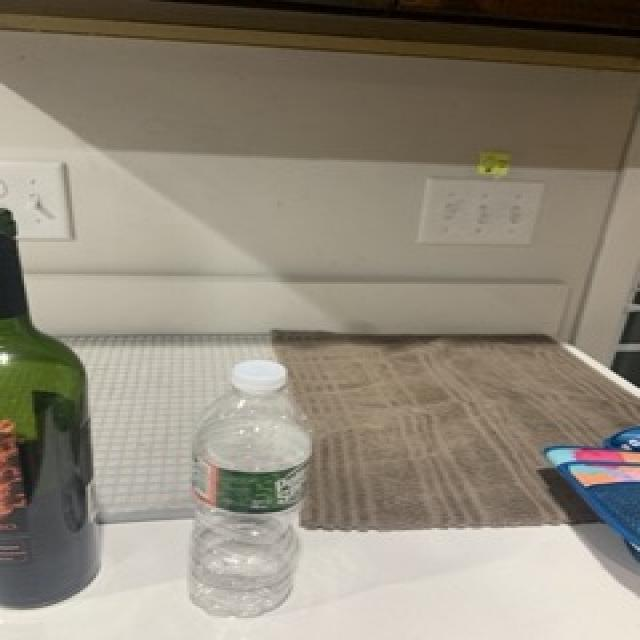water_bottle: (185, 357, 311, 623)
